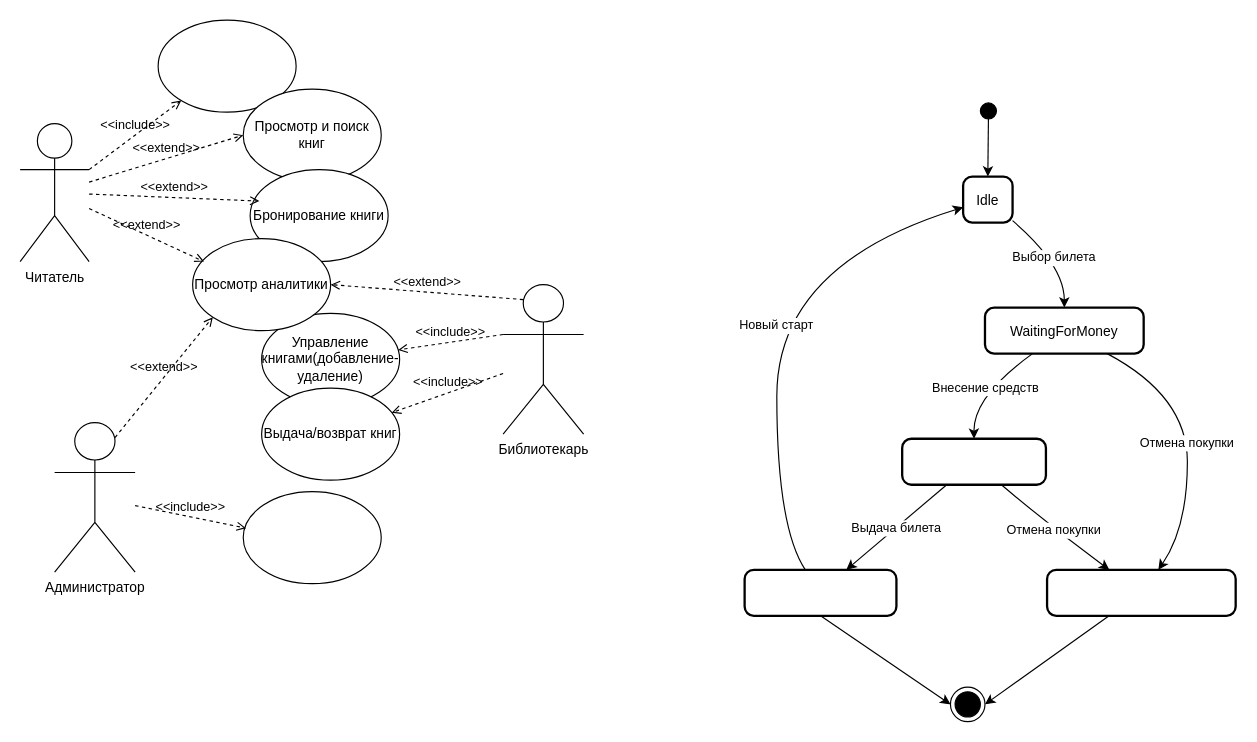
Some shapes in this 1257 by 742 pixel diagram are drawn without their labels. The shapes that lost their labels are listed below. From the top down, each one's box as (x1, y1, x2, y2) in pixels, then its label:
(157, 19, 296, 112): Регистрация пользователей
(900, 437, 1046, 485): MoneyReceived
(242, 490, 381, 584): Управление филиалами
(743, 568, 897, 616): TicketDispensed
(1045, 568, 1236, 616): TransactionCanceled
